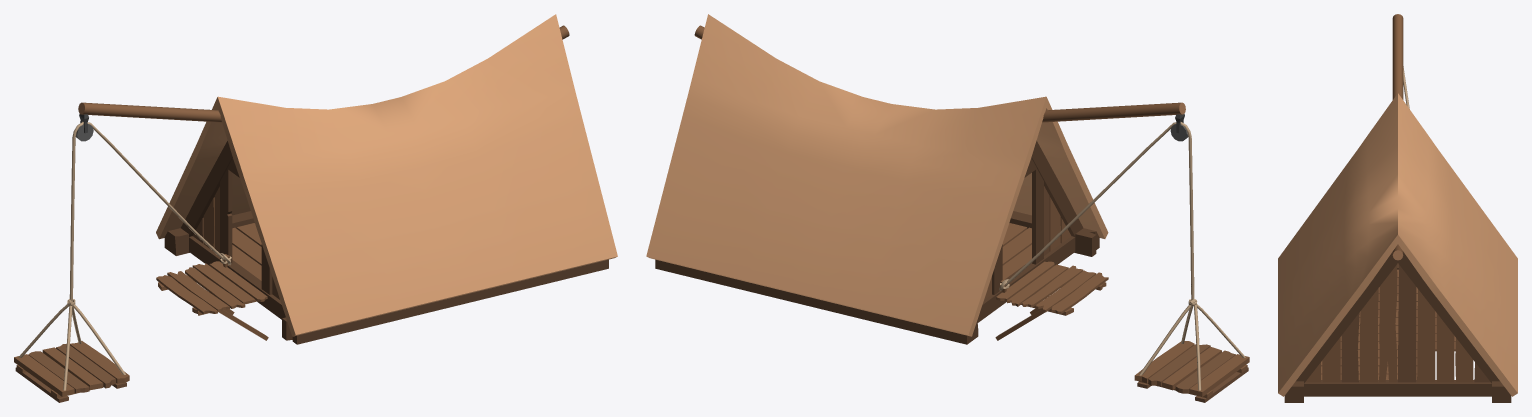
The model's file is Roof_02.fbx.
3 renders of one model, left to right at view 1: azimuth 30°, elevation 25°; view 2: azimuth 150°, elevation 25°; view 3: azimuth 270°, elevation 25°, orthographic. The views are drawn at different scales.
Parts seen in each view (by area): view 1: Roof_02_LOD0; view 2: Roof_02_LOD0; view 3: Roof_02_LOD0.
Boxes of the visible parts, <box> form: Roof_02_LOD0: <box>14,14,617,402</box>; Roof_02_LOD0: <box>646,14,1249,402</box>; Roof_02_LOD0: <box>1278,14,1517,402</box>.
Size of what is drawn, in the model's own units: 7.54 by 3.71 by 3.44.
